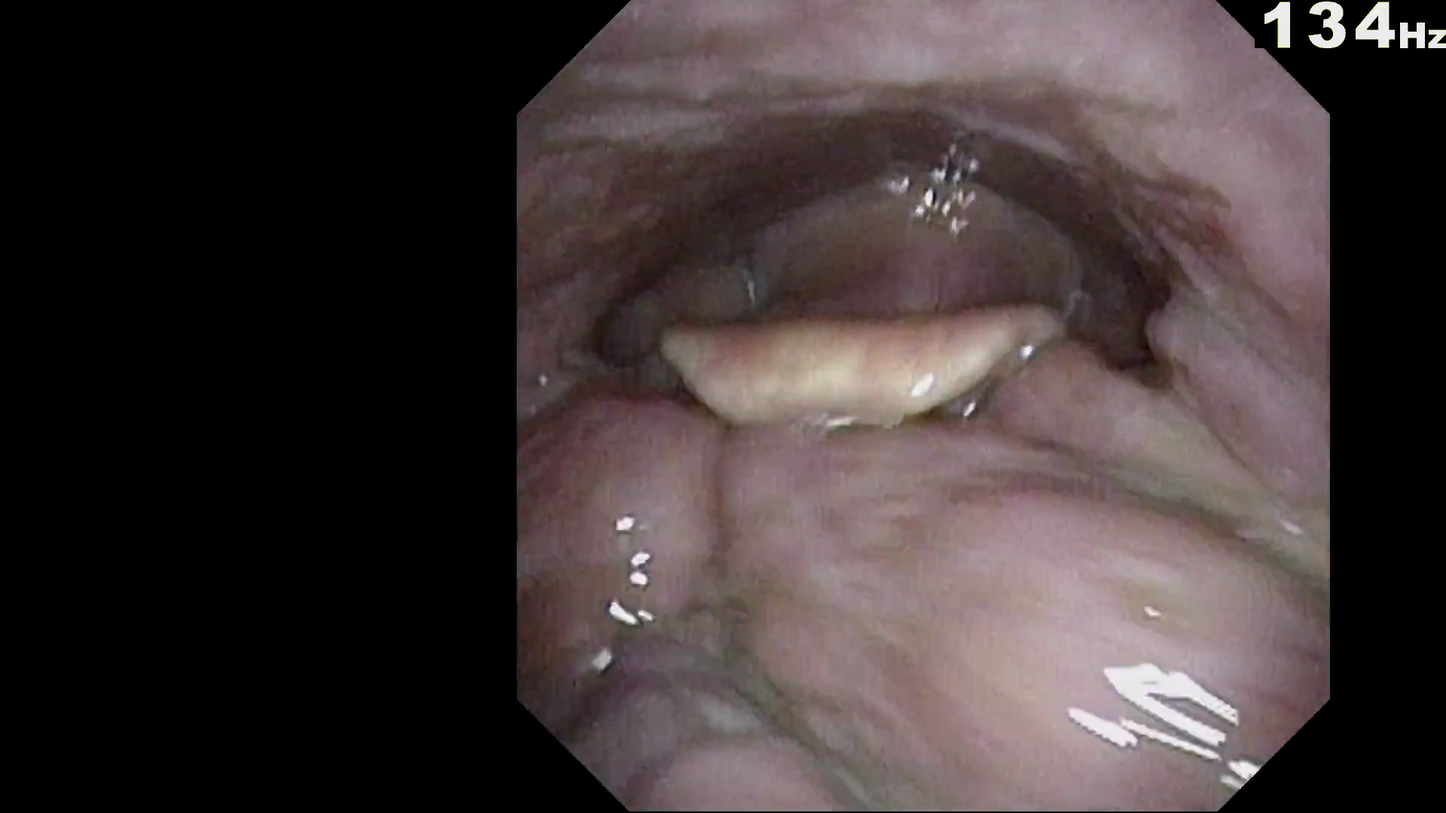epiglottis: (619, 344, 1156, 544)
